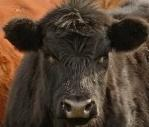muzzles: (58, 95, 95, 122)
